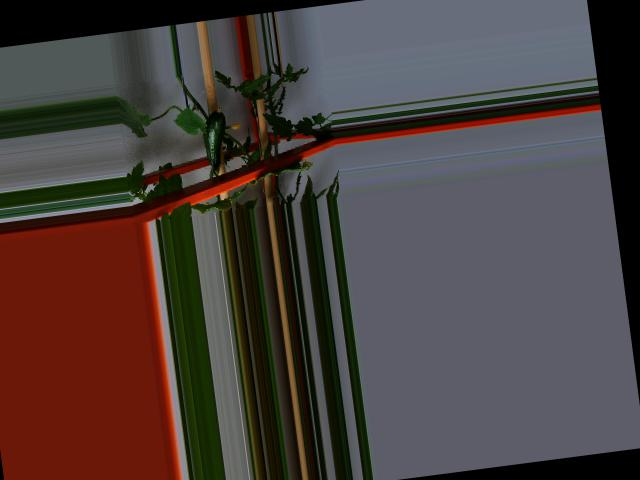cucumber: (200, 105, 231, 168)
